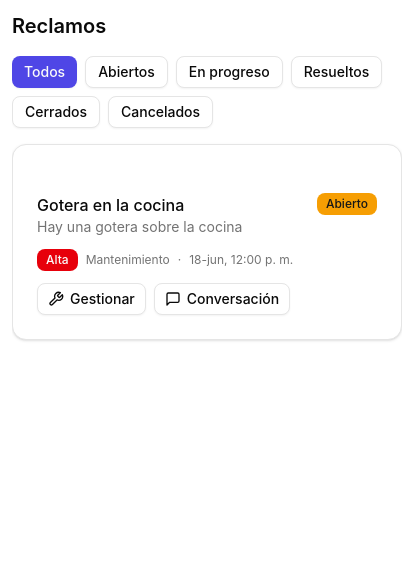
Test: AdminClaimsPage › muestra el hilo de comentarios al abrir la conversación
Click the button "Conversación" at (222, 299), box x1=154 y1=283 x2=290 y2=315
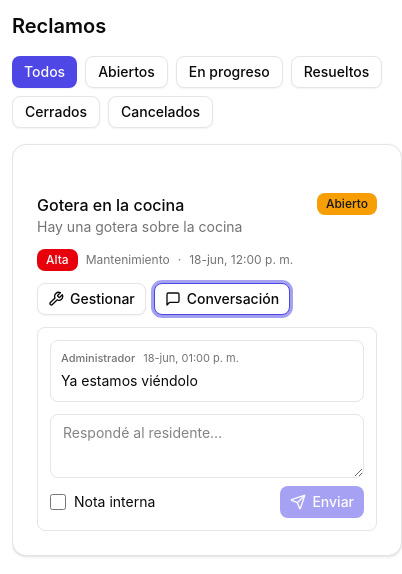
Expected: the text "Ya estamos viéndolo" is shown, x1=61 y1=372 x2=198 y2=389
